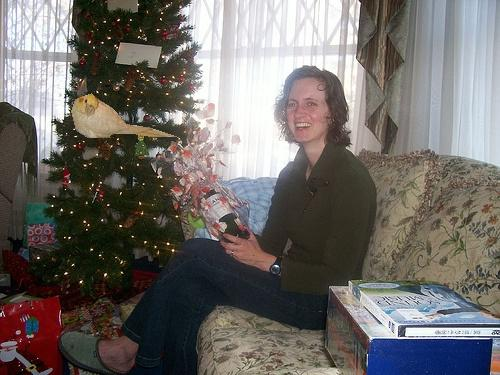tampered: (72, 94, 179, 138)
